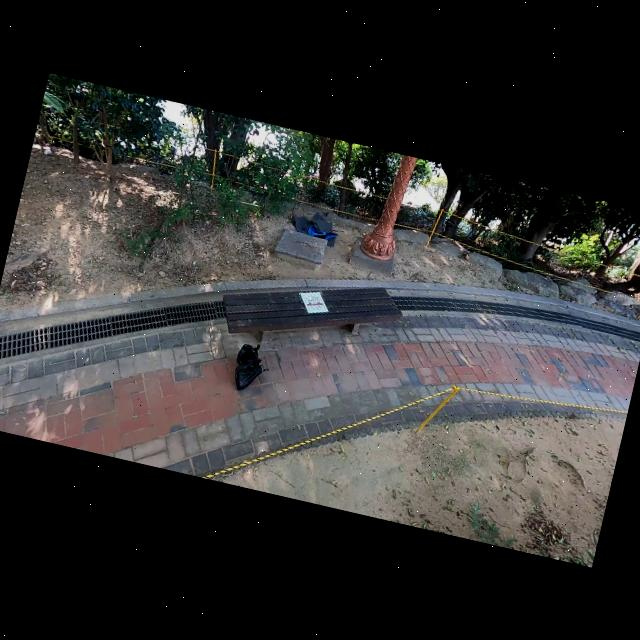trash: (229, 354, 271, 396), (231, 338, 268, 372)
